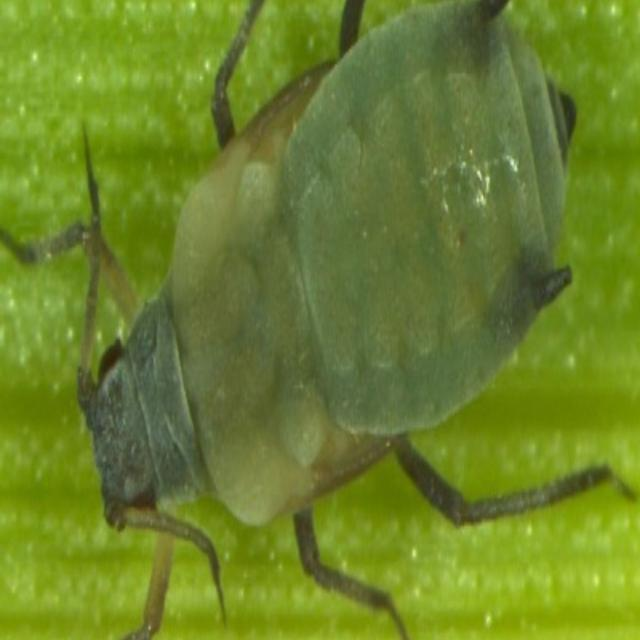aphid: (43, 8, 617, 610)
